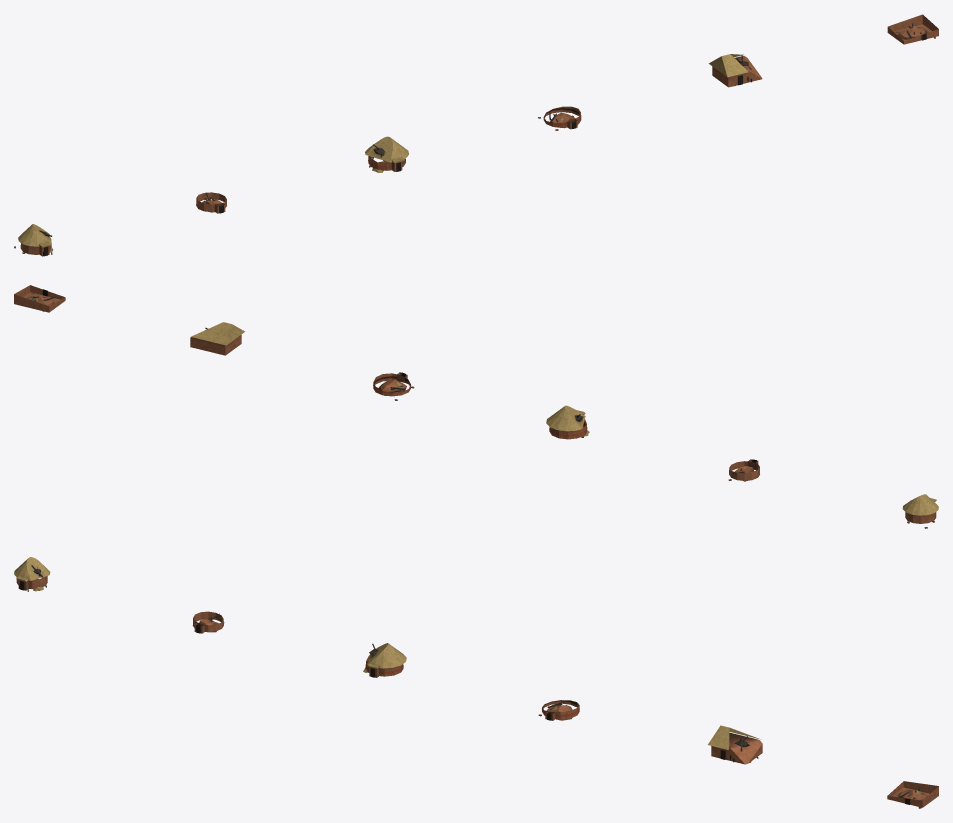
Rendered from stone-westafrica-houses-damage.glb.
The picture shows the model from 3 angles, top to bottom: view 1: azimuth 30°, elevation 25°; view 2: azimuth 150°, elevation 25°; view 3: azimuth 330°, elevation 25°; orthographic projection.
Visible parts, largest first — view 1: LOD0.004, LOD0.002, LOD0.005, LOD0, LOD0.003, LOD0.001; view 2: LOD0.004, LOD0.002, LOD0.005, LOD0, LOD0.003, LOD0.001; view 3: LOD0.004, LOD0.002, LOD0.005, LOD0, LOD0.003, LOD0.001.
Boxes of the visible parts, left/top/right/bottom form: LOD0.004: left=709, top=54, right=762, bottom=87; LOD0.002: left=365, top=136, right=408, bottom=172; LOD0.005: left=887, top=14, right=938, bottom=44; LOD0: left=14, top=224, right=53, bottom=256; LOD0.003: left=538, top=106, right=581, bottom=130; LOD0.001: left=196, top=192, right=226, bottom=213; LOD0.004: left=190, top=322, right=244, bottom=355; LOD0.002: left=546, top=405, right=589, bottom=439; LOD0.005: left=14, top=285, right=65, bottom=312; LOD0: left=902, top=494, right=938, bottom=528; LOD0.003: left=373, top=372, right=414, bottom=400; LOD0.001: left=728, top=459, right=759, bottom=481; LOD0.004: left=708, top=725, right=762, bottom=764; LOD0.002: left=363, top=643, right=406, bottom=677; LOD0.005: left=887, top=781, right=938, bottom=808; LOD0: left=14, top=557, right=50, bottom=591; LOD0.003: left=538, top=700, right=579, bottom=720; LOD0.001: left=192, top=611, right=224, bottom=633.
Size of what is drawn, in the model's own units: 15.56 by 0.44 by 0.7004.
Materials: 1 (1 with a texture image).
